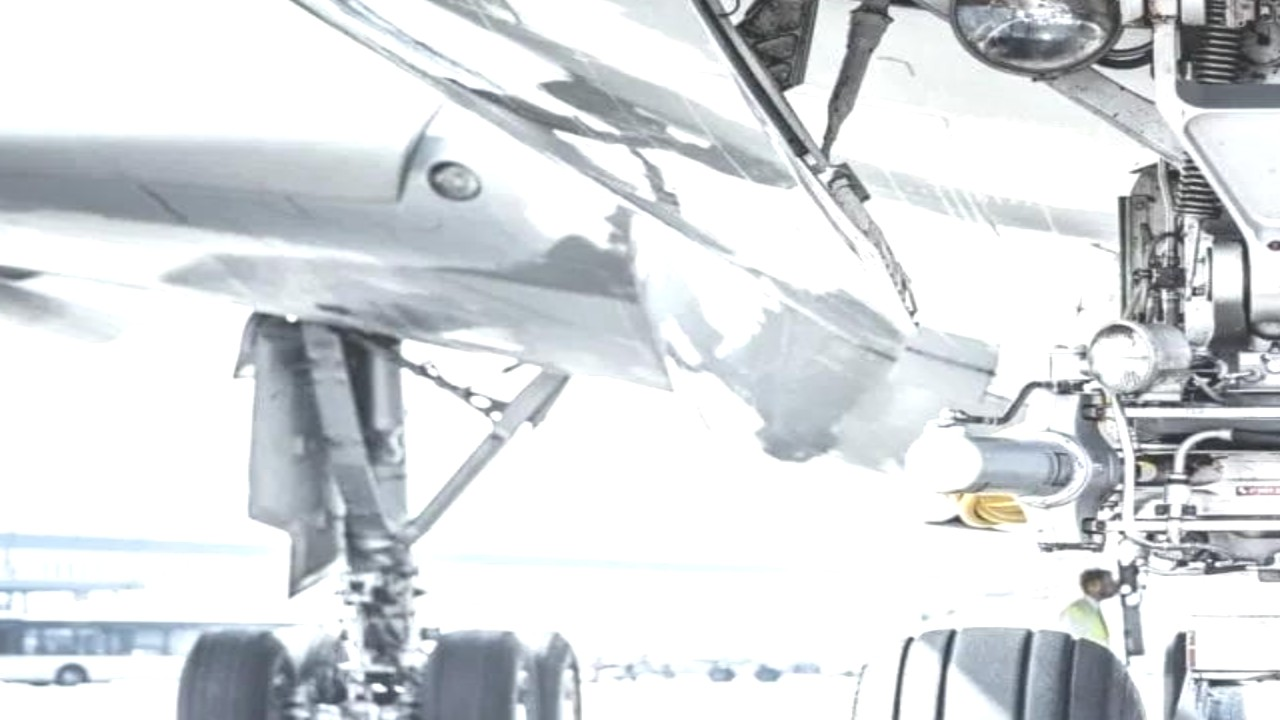wheel: (174, 625, 326, 720), (1164, 625, 1280, 720), (420, 627, 534, 720), (514, 630, 588, 720), (278, 646, 364, 720), (1160, 628, 1200, 720)
